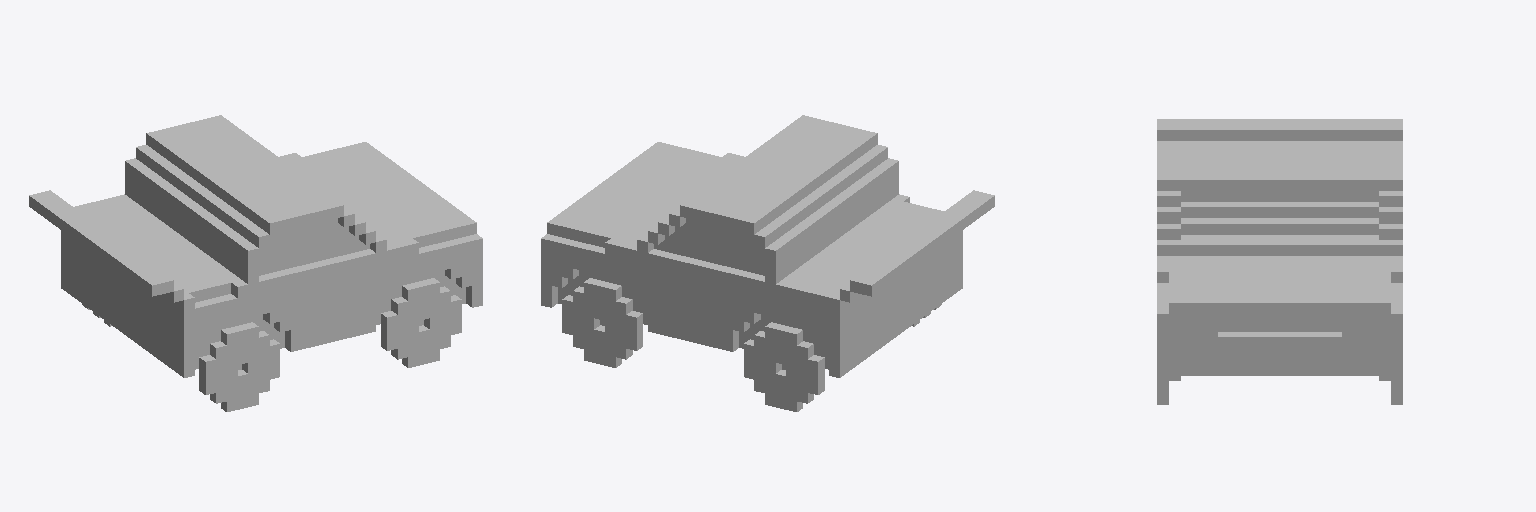
The model's file is Car_3.obj.
3 views of the same model, side by side, from view 1: azimuth 30°, elevation 25°; view 2: azimuth 150°, elevation 25°; view 3: azimuth 270°, elevation 25° (orthographic).
Parts seen in each view (by area): view 1: Car_3; view 2: Car_3; view 3: Car_3.
Boxes of the visible parts, box(x1,y1,x2,y2) form: Car_3: box(29, 115, 482, 411); Car_3: box(541, 115, 994, 411); Car_3: box(1157, 119, 1402, 404).
Bounding box in the file's own units: 31 × 16 × 20.